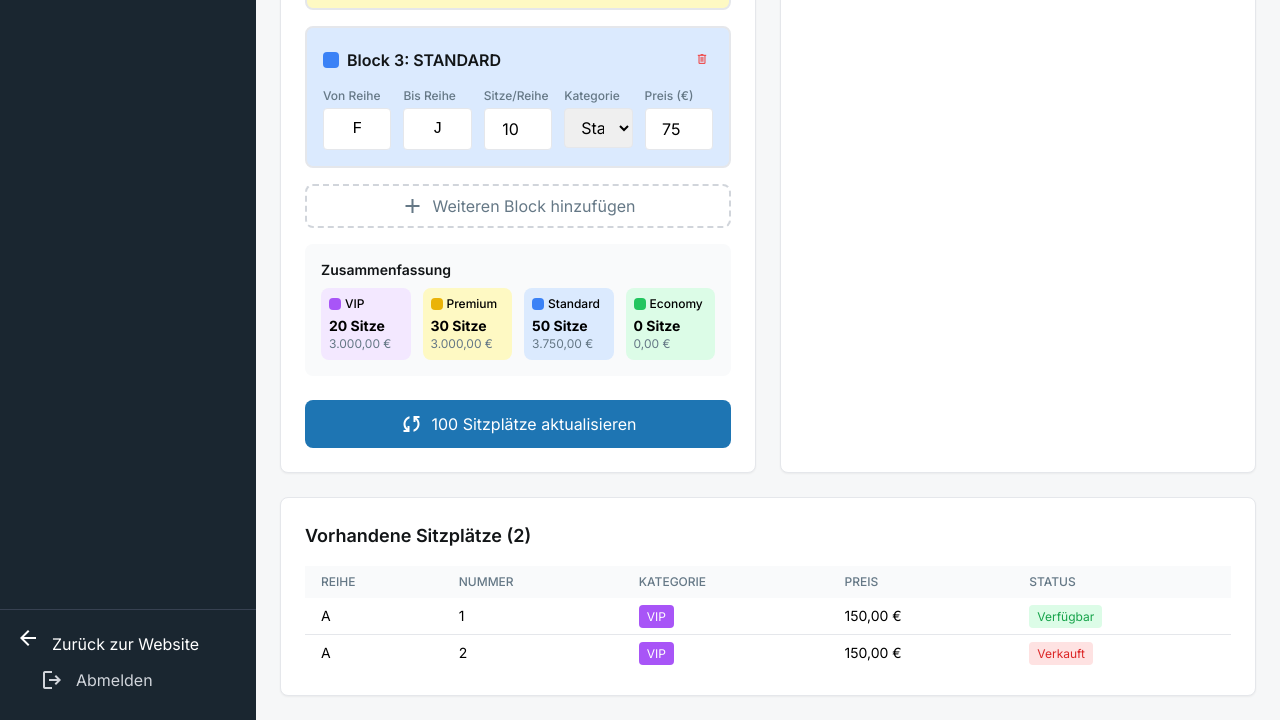
Test: ManageSeatsPage › erstellt Sitzplätze erfolgreich
(page scrolled)
Note: Klicke auf Aktualisieren-Button
Click the button "100 Sitzplätze aktualisieren" at [518, 424], box [305,400,731,448]
(page scrolled)
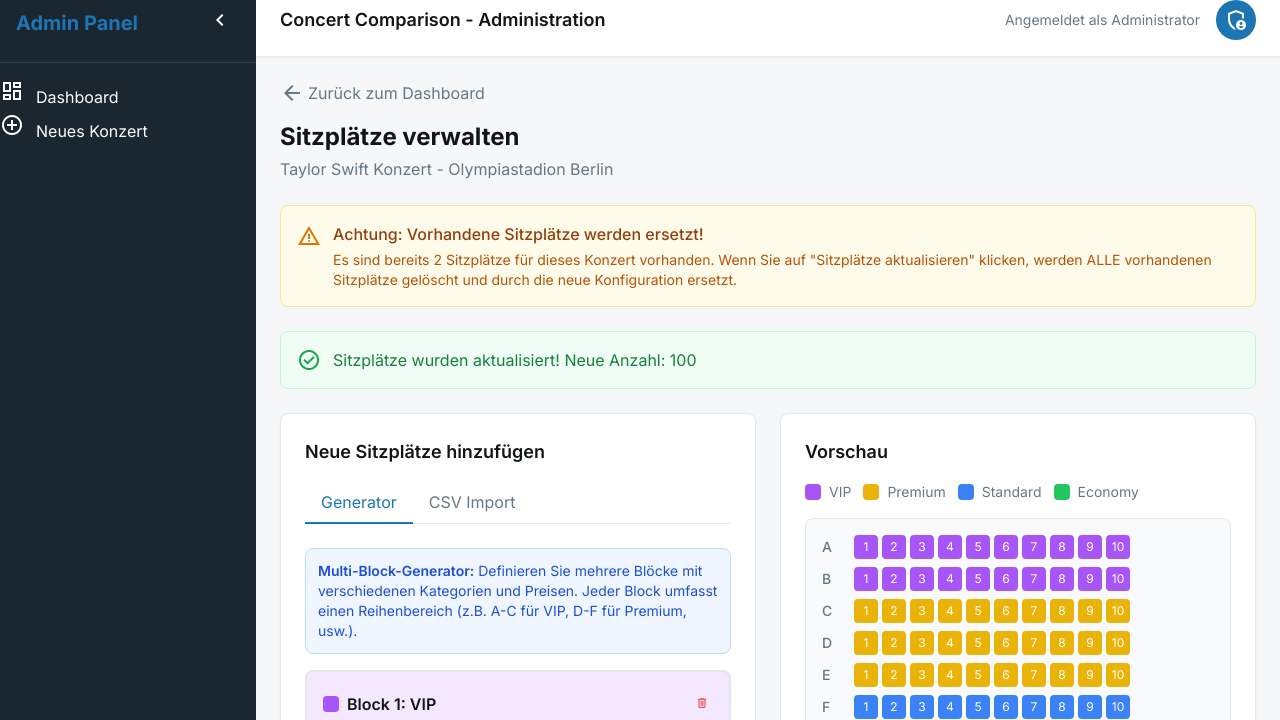
Check: the text "Sitzplätze wurden aktualisiert! Neue Anzahl: 100" is shown, box [333,348,696,372]
